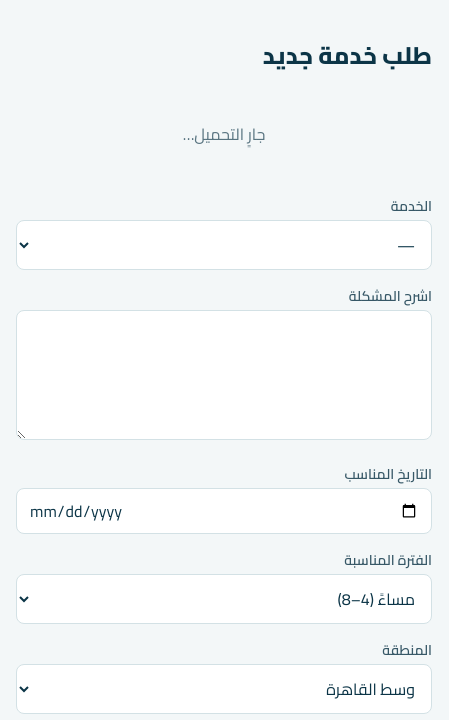
customer requests › shows field-level Arabic messages when the server rejects the form
This screenshot has width=449, height=720.
Type "قصير" into the text box labelled "اشرح المشكلة" at (224, 375), box [16,310,432,440]
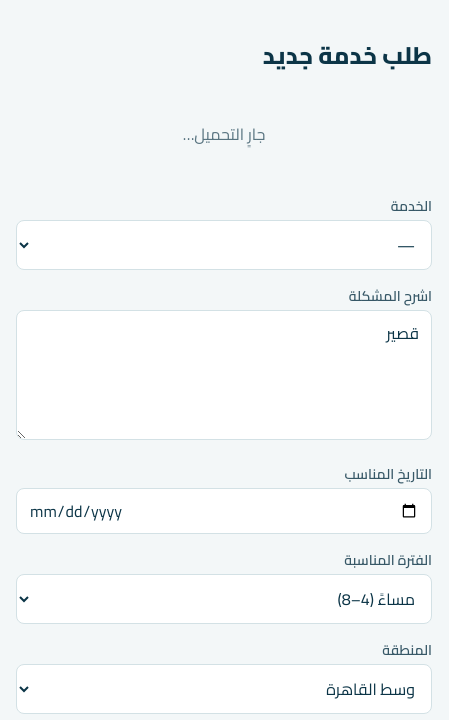
Type "2030-01-05" into the date field labelled "التاريخ المناسب" at (224, 511), box [16,488,432,534]
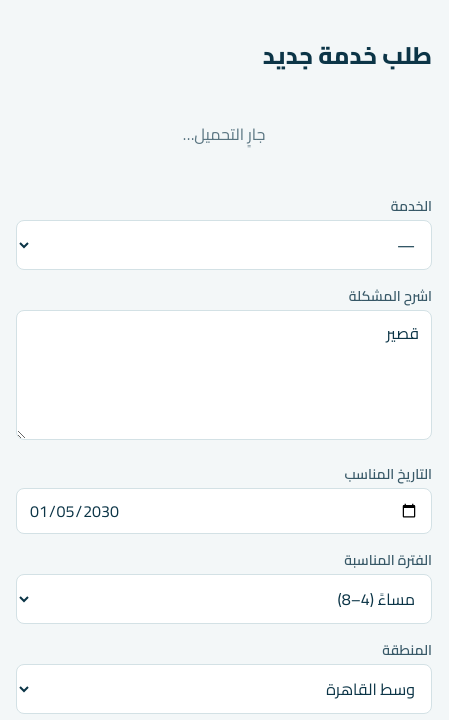
Select "—" in the dropdown labelled "الخدمة" at (224, 245), box [16,220,432,270]
(page scrolled)
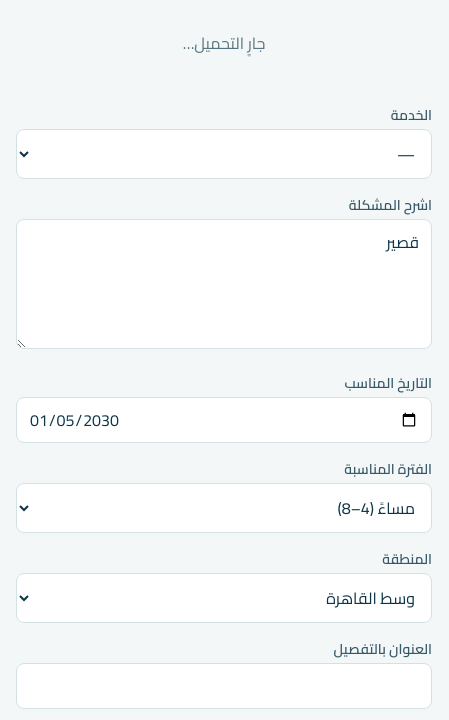
Submit the text "أرسل الطلب"
(page scrolled)
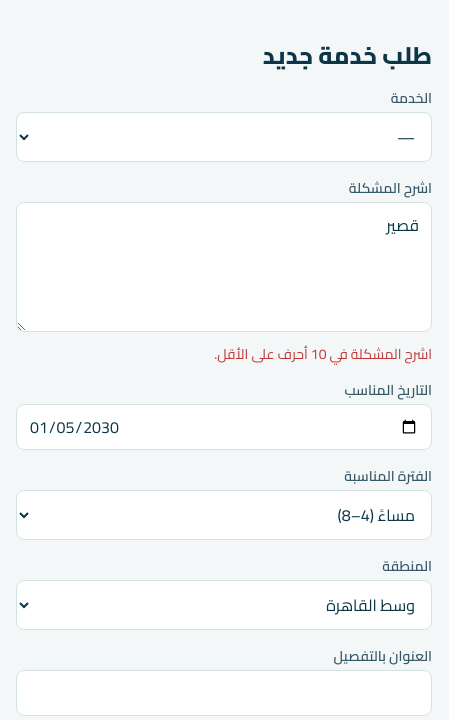
Check: the text "اشرح المشكلة في 10 أحرف على الأقل." is shown, box [214,341,432,367]
